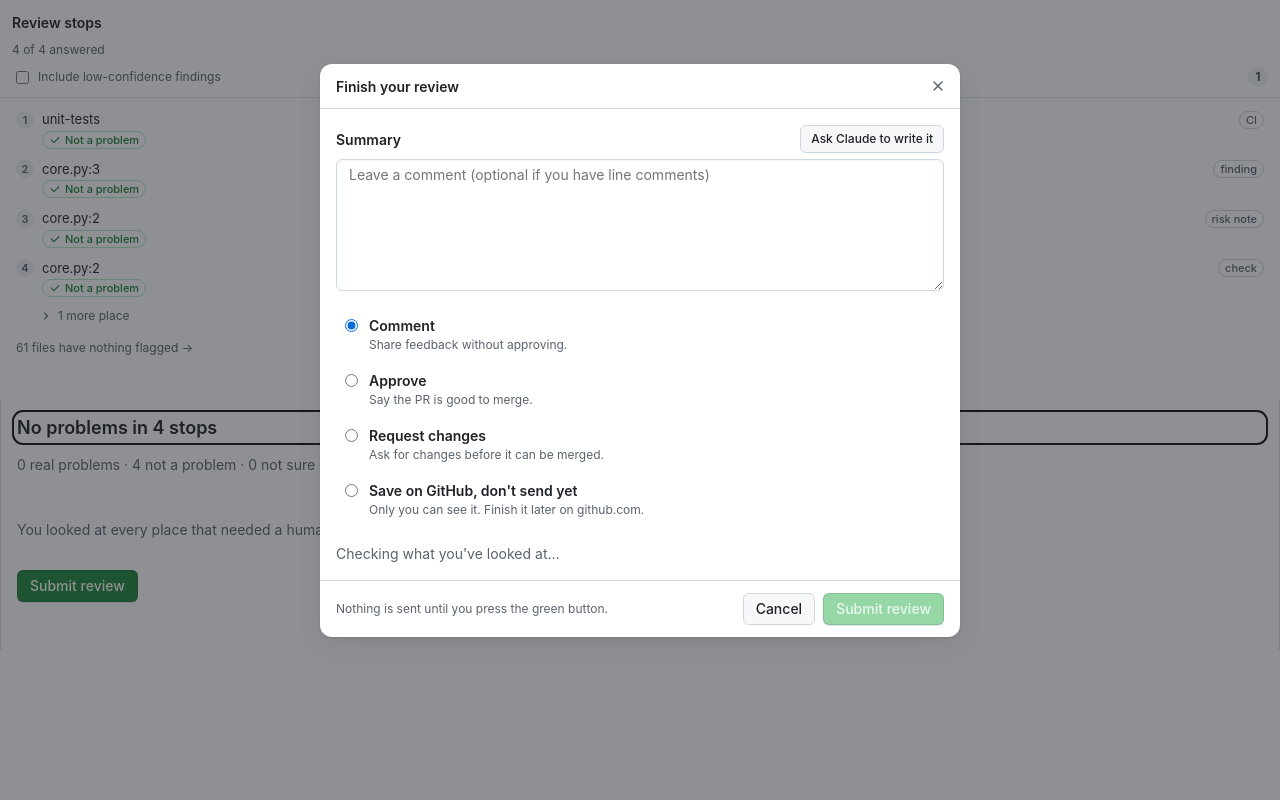
Test case: the end screen (DT13) › with none: "No problems in N stops", and Submit opens on Comment, never Approve
The image size is (1280, 800).
Expected: the heading "No problems in 4 stops" is shown, [17,417,217,438]
Expected: the text "You looked at every place that needed a human" is shown, [17,521,331,538]
// Even after Approve was picked in an earlier opening, Submit from here starts on Comment.
Click the radio button labelled "Approve Say the PR is good to merge.": (352, 380) [345,374,358,387]
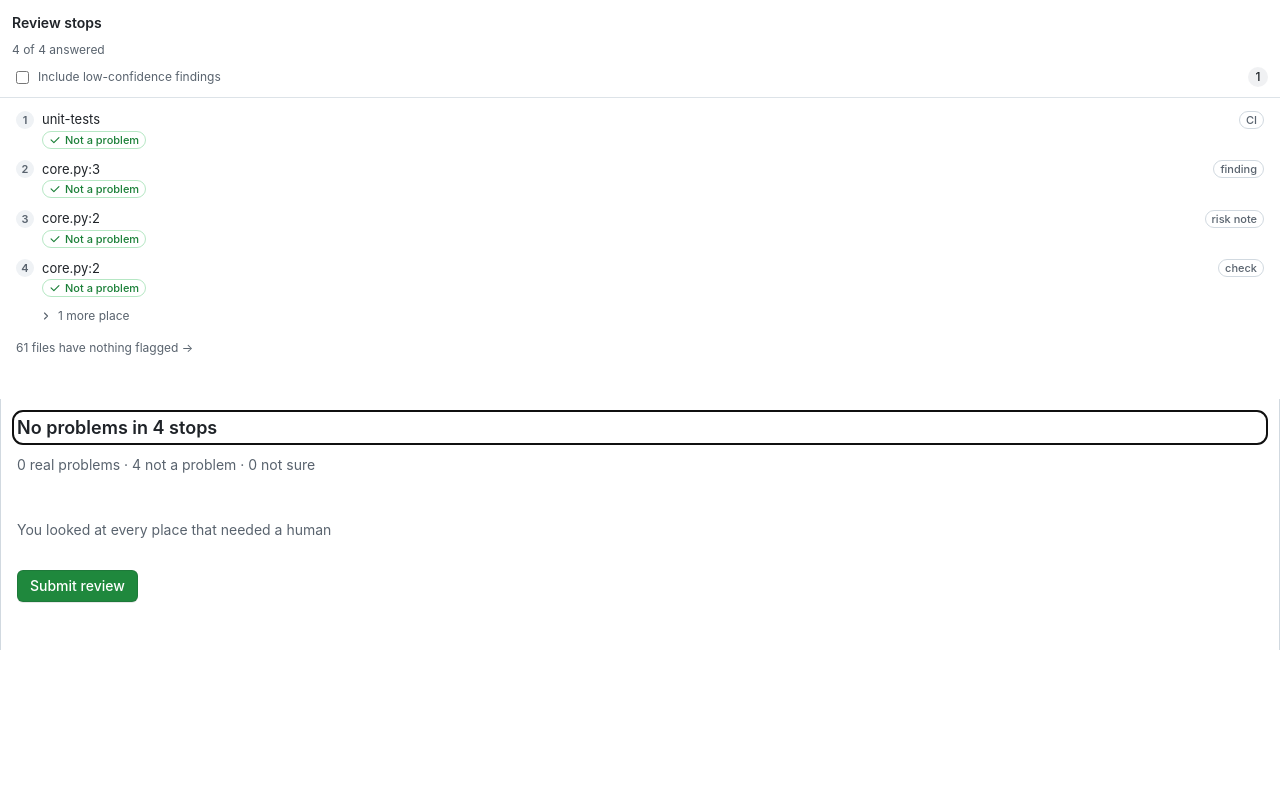
Result: the number of buttons "Submit review" is 1
Click the button "Submit review": (77, 586) [17,570,138,602]
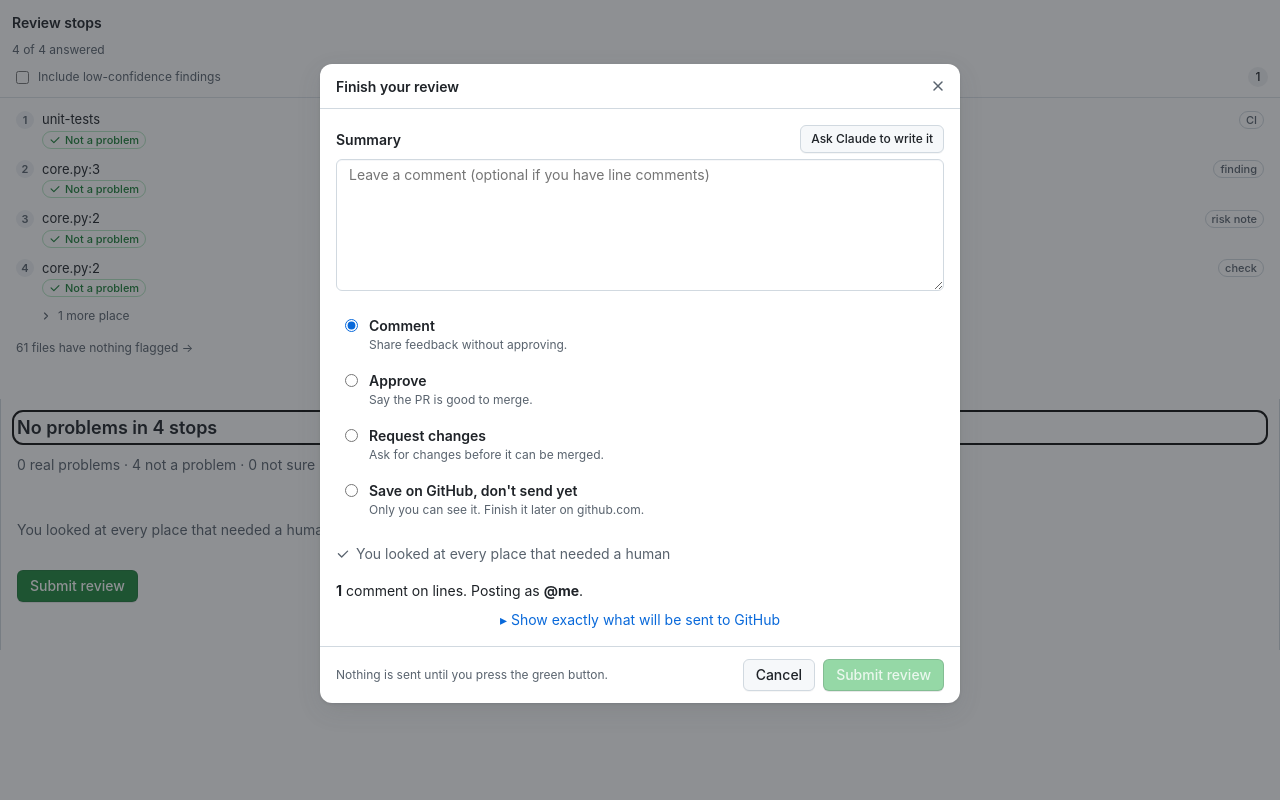
Result: the radio button labelled "Comment Share feedback without approving." is checked at [345,319,358,332]
Result: the radio button labelled "Approve Say the PR is good to merge." is not checked at [345,374,358,387]
